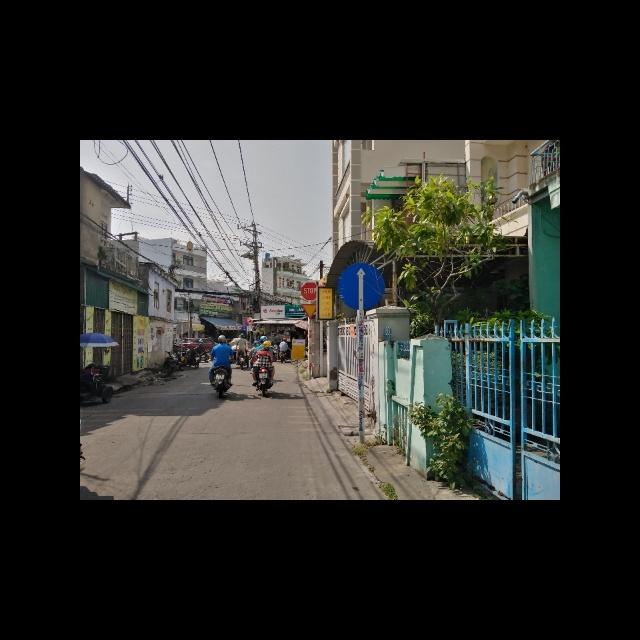Dừng lại: (301, 282, 317, 300)
Giao nhau với đường ưu tiên: (300, 304, 317, 319)
Đường một chiều: (338, 261, 386, 311)
